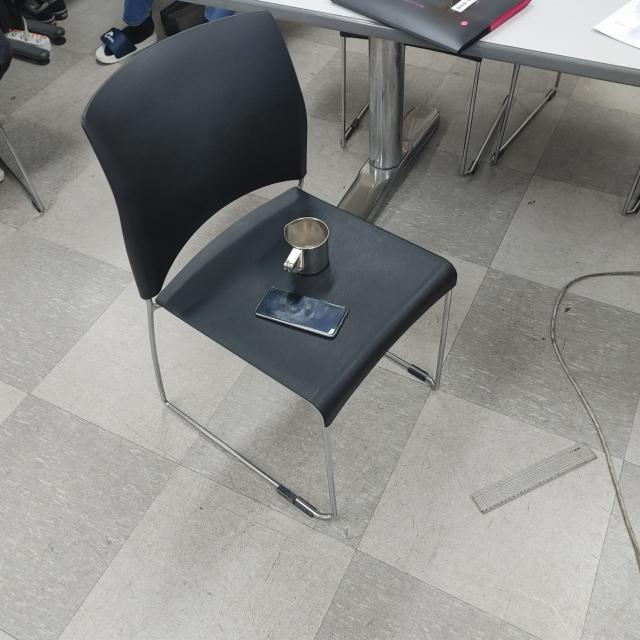cup: (282, 216, 331, 279)
phone: (254, 285, 350, 341)
